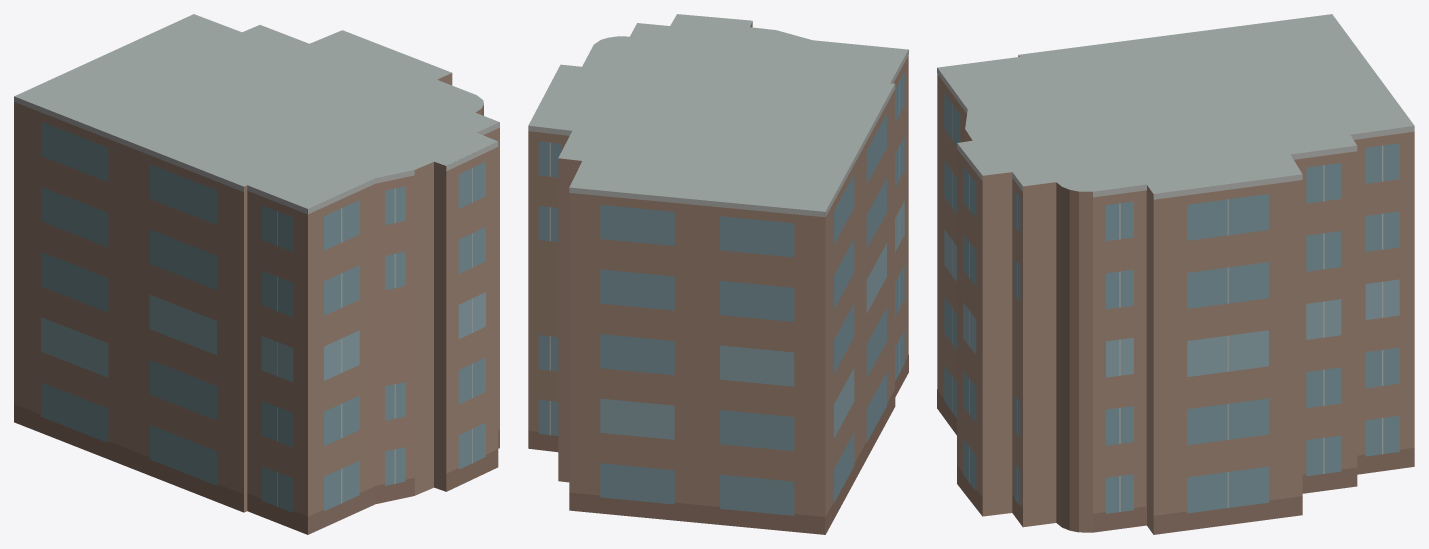
File: survey-upis-32670924.glb
3 renders of one model, left to right at view 1: azimuth 30°, elevation 25°; view 2: azimuth 150°, elevation 25°; view 3: azimuth 270°, elevation 25°, orthographic. The views are drawn at different scales.
Visible parts, largest first — view 1: survey-upis-32670924.tmp; view 2: survey-upis-32670924.tmp; view 3: survey-upis-32670924.tmp.
Boxes of the visible parts, x1=… form: survey-upis-32670924.tmp: x1=14, y1=14, x2=499, y2=534; survey-upis-32670924.tmp: x1=528, y1=14, x2=908, y2=534; survey-upis-32670924.tmp: x1=937, y1=14, x2=1414, y2=534.
Bounding box in the file's own units: 16.55 × 14.6 × 18.55.
